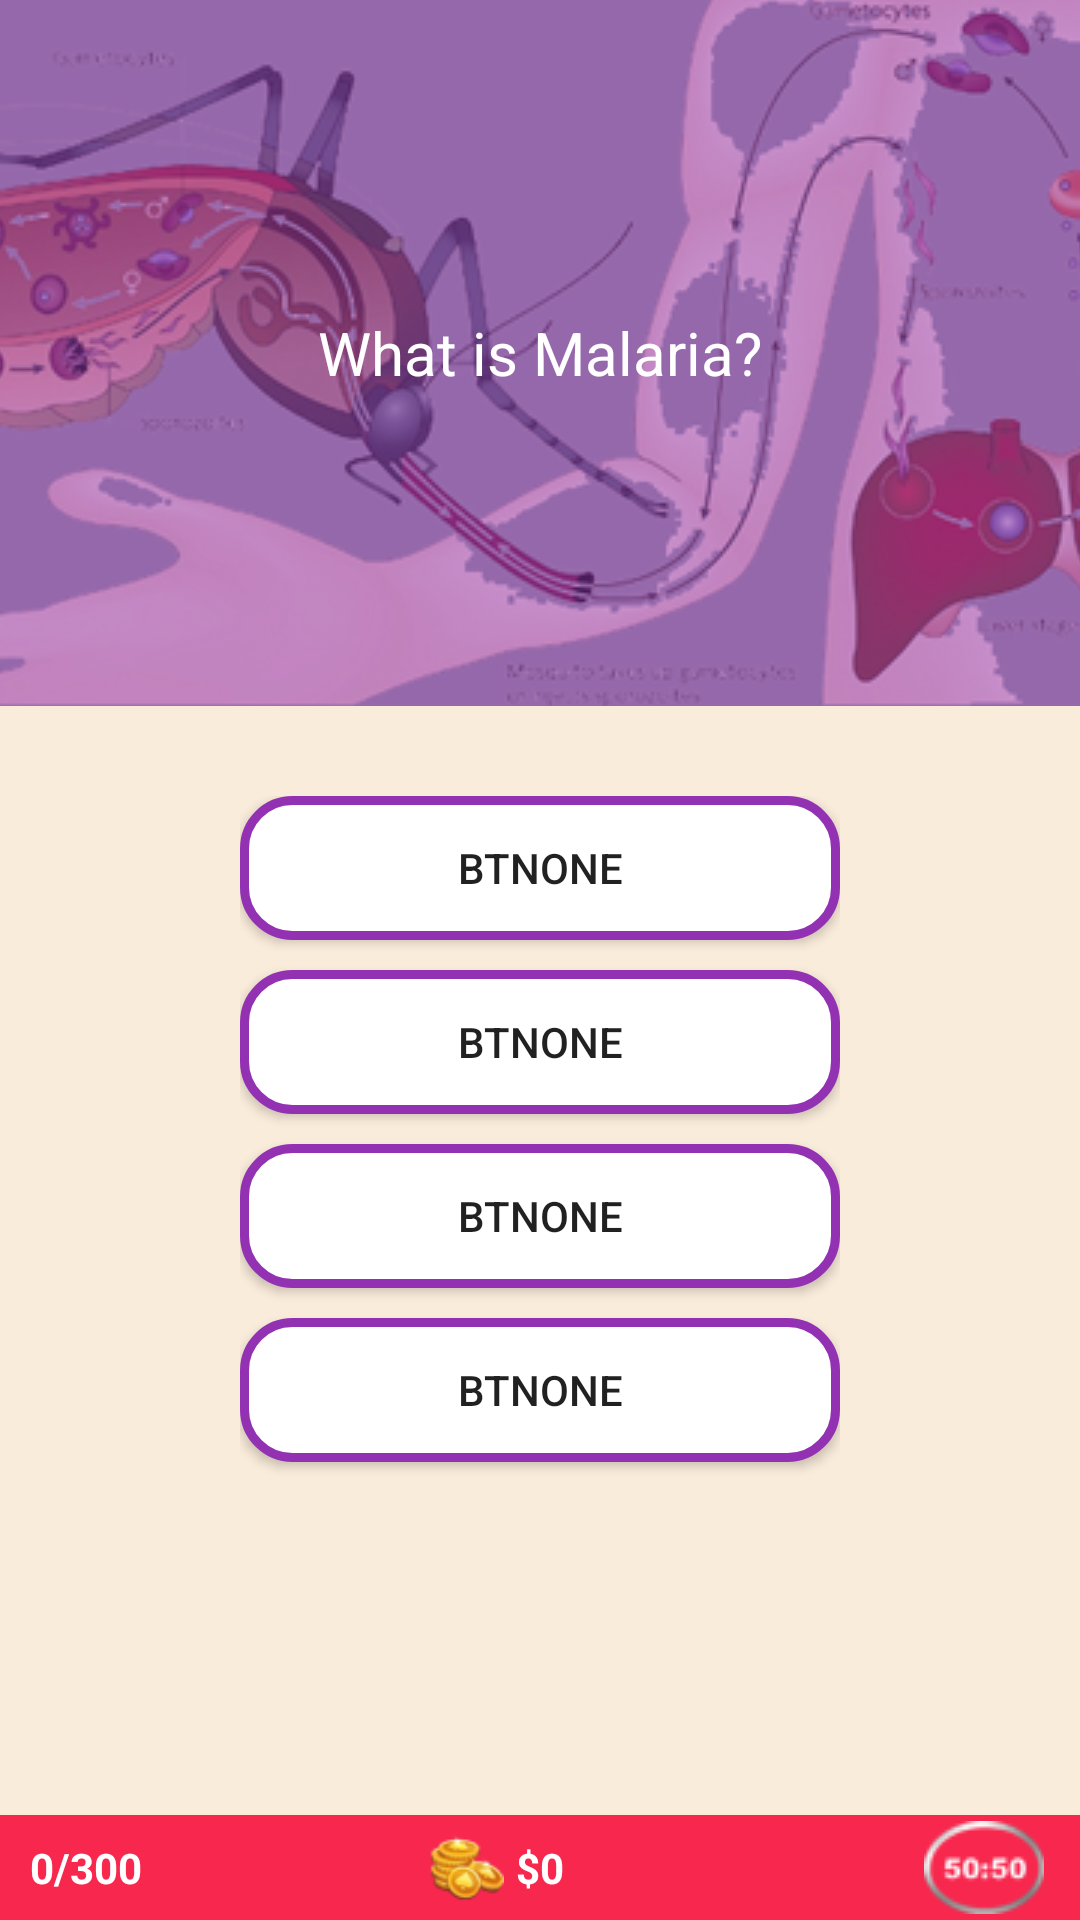

Icon bounding boxes for this 1080px x 1920px phone screenshot, format [x1=x1, y1=y1, x2=x2, y2=y2]:
wallet: [x1=431, y1=1837, x2=504, y2=1900]
